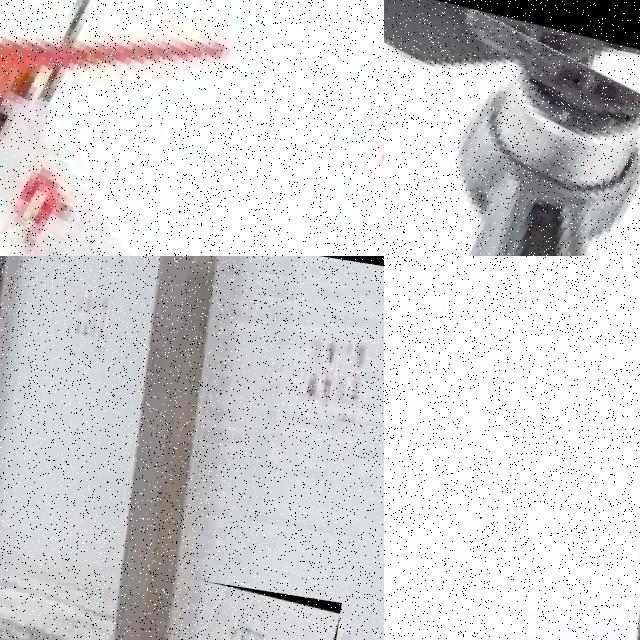drone: (0, 0, 384, 256), (384, 0, 640, 256), (182, 581, 341, 640)
